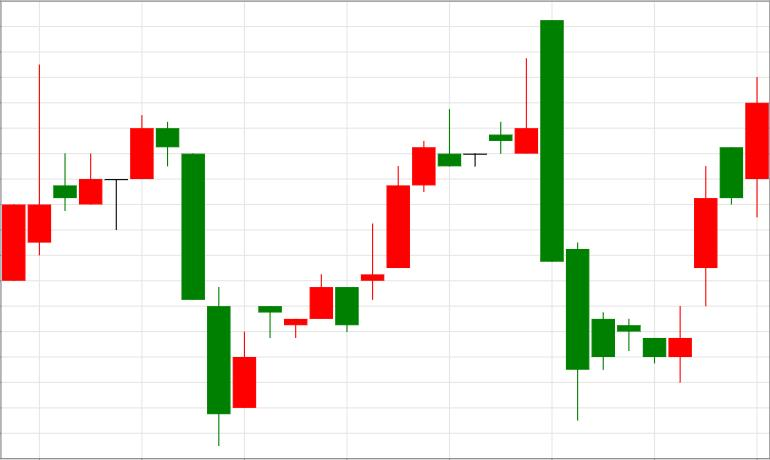bearish_engulfing_fall: (361, 20, 564, 301)
three_black_crows_fall: (1, 63, 230, 446)
